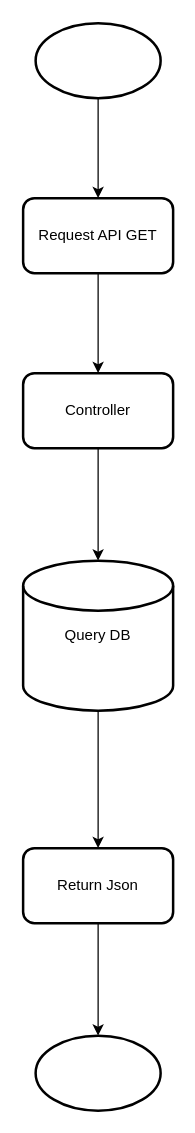
This 195x1133 diagram has some shape labels left out. The centre of each missing label's shape, as x and y in pixels:
"Tampil Di Dashboard" goes at point 97,1072.
"User buka web" goes at point 97,60.
